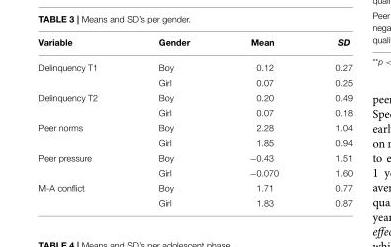table: (37, 37, 351, 207)
table column: (127, 37, 218, 207), (37, 37, 127, 207), (218, 37, 306, 207), (306, 37, 351, 207)
table column header: (37, 37, 351, 54)
table row: (37, 54, 351, 75), (37, 37, 351, 54), (37, 75, 351, 90), (37, 90, 351, 105), (37, 105, 351, 120), (37, 120, 351, 135), (37, 135, 351, 150), (37, 150, 351, 165), (37, 165, 351, 180), (37, 180, 351, 195), (37, 195, 351, 207)
table spanning cell: (37, 54, 127, 90), (37, 90, 127, 120), (37, 120, 127, 150), (37, 150, 127, 180), (37, 180, 127, 207)
